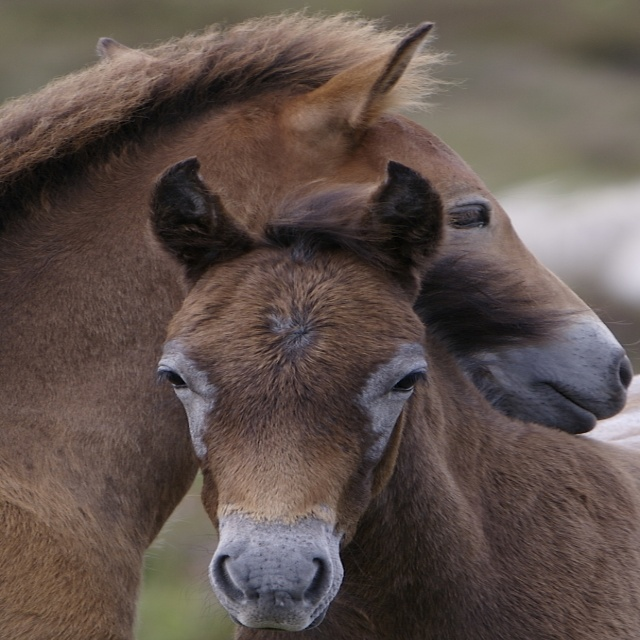Horse: (0, 3, 639, 640)
